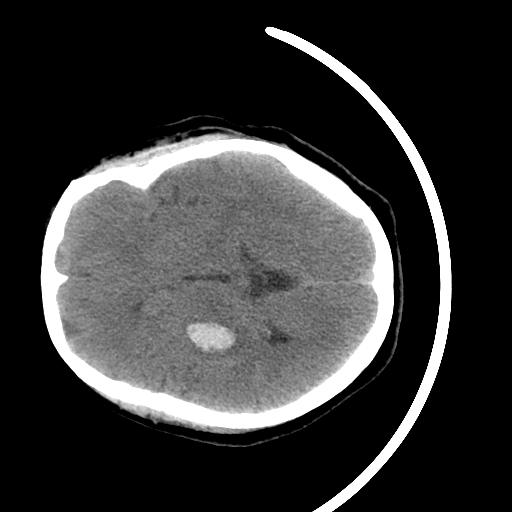a: (178, 316, 251, 363)
